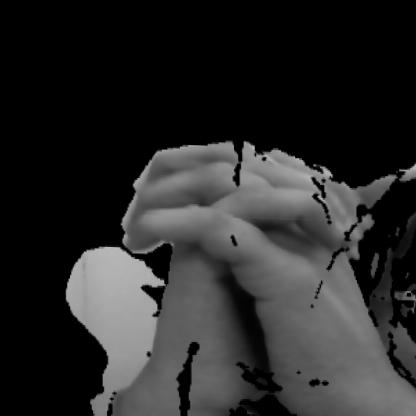prayer: (111, 136, 408, 402)
